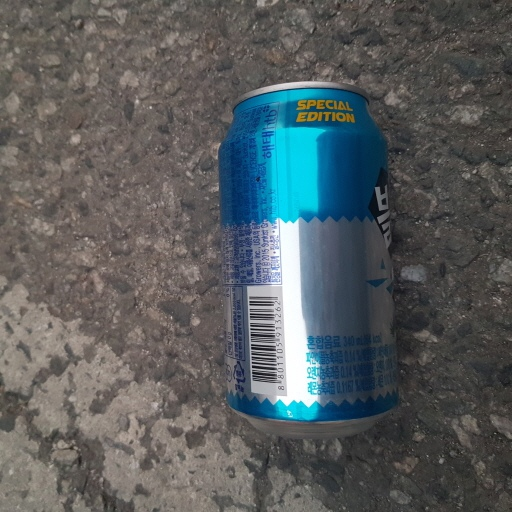Metal_0: (216, 79, 399, 437)
